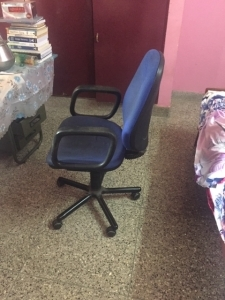chair: (47, 48, 165, 238)
